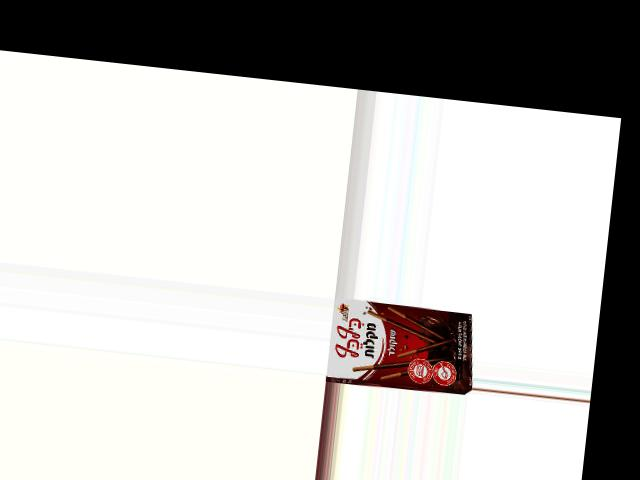chocolate: (326, 296, 470, 395)
